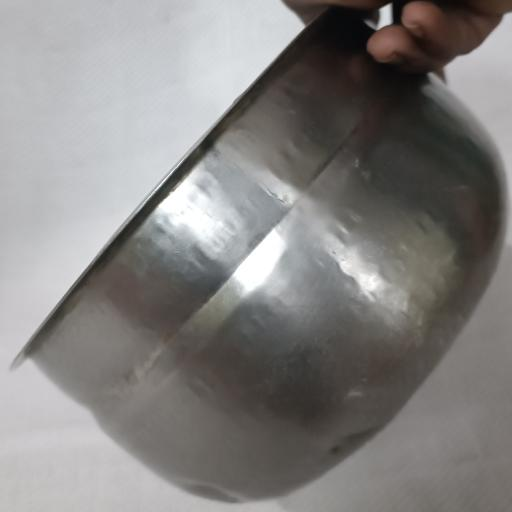vessel: (17, 10, 505, 501)
